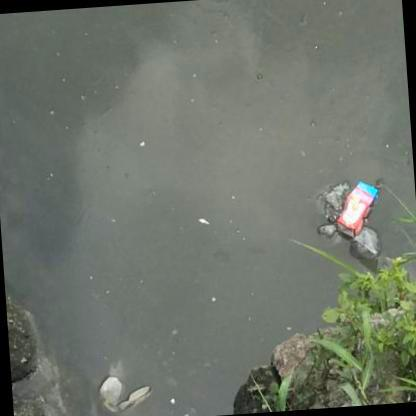Trash: (333, 179, 382, 242), (316, 178, 349, 241), (98, 375, 154, 412), (347, 228, 379, 266)
